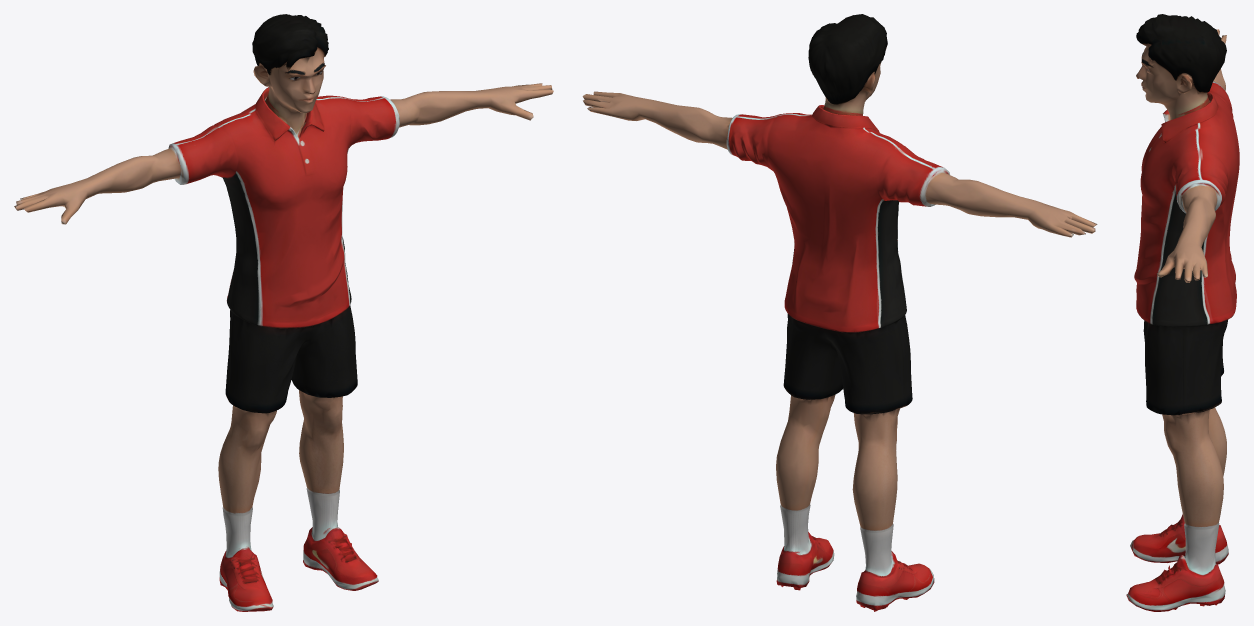
Rendered from crew_ballkid_upright.glb.
3 renders of one model, left to right at view 1: azimuth 30°, elevation 25°; view 2: azimuth 150°, elevation 25°; view 3: azimuth 270°, elevation 25°, orthographic.
Parts seen in each view (by area): view 1: tripo_node_b014e6a4-8a4e-4cd8-a6d0-3281dc507f19; view 2: tripo_node_b014e6a4-8a4e-4cd8-a6d0-3281dc507f19; view 3: tripo_node_b014e6a4-8a4e-4cd8-a6d0-3281dc507f19.
Boxes of the visible parts, box(x1,y1,x2,y2) form: tripo_node_b014e6a4-8a4e-4cd8-a6d0-3281dc507f19: box(14, 14, 553, 611); tripo_node_b014e6a4-8a4e-4cd8-a6d0-3281dc507f19: box(582, 14, 1097, 611); tripo_node_b014e6a4-8a4e-4cd8-a6d0-3281dc507f19: box(1126, 14, 1239, 611).
Bounding box in the file's own units: 0.966 × 1 × 0.1827.
Materials: 1 (1 with a texture image).
